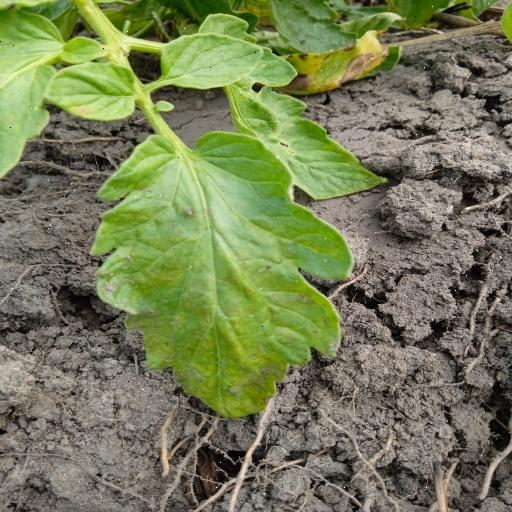Tomato_Brown_Spots: (89, 130, 344, 420)
